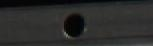holes: (0, 0, 67, 11), (61, 12, 86, 39)
